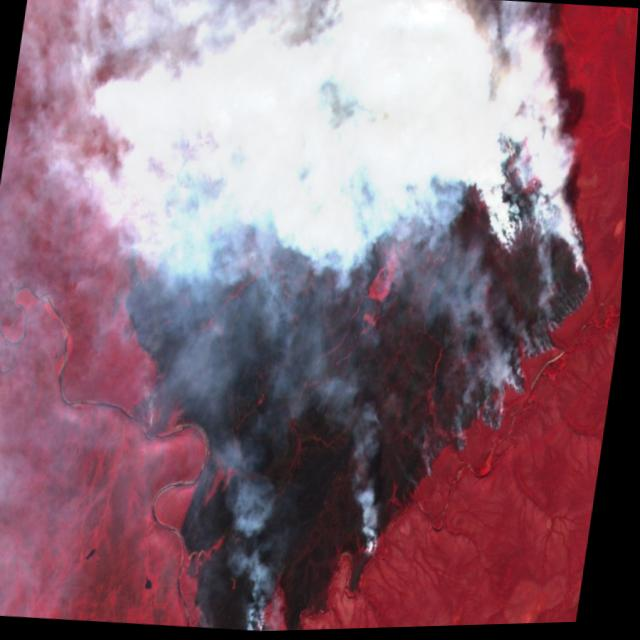fire: (57, 0, 640, 638)
